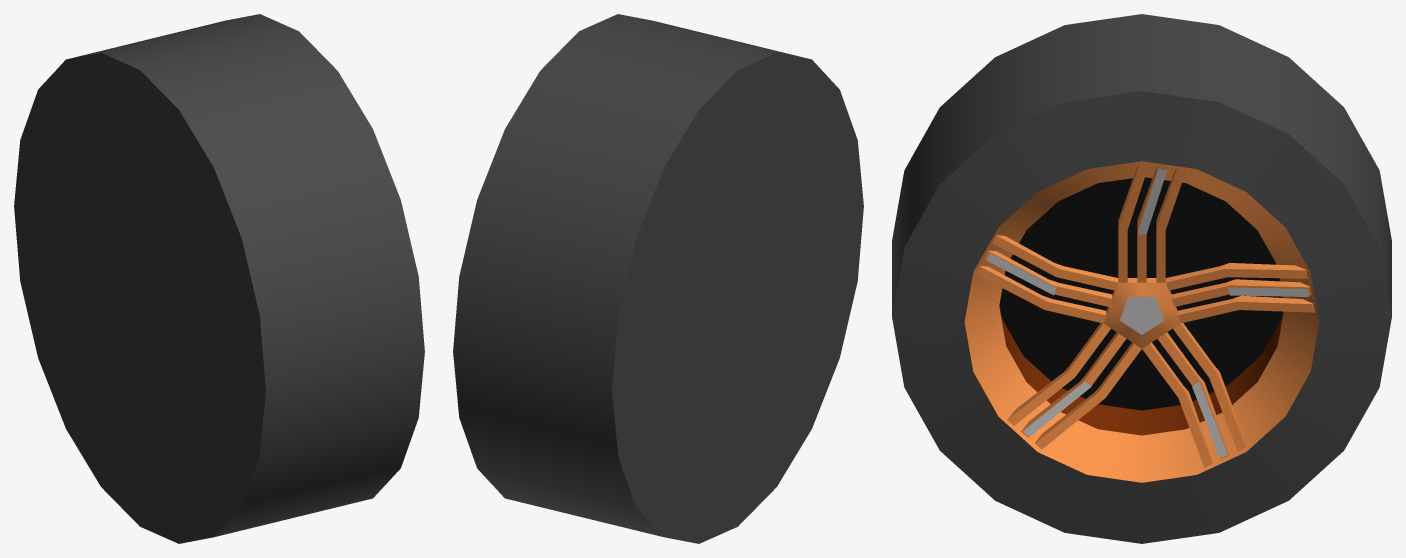
File: WheelMod_09.fbx
3 views of the same model, side by side, from view 1: azimuth 30°, elevation 25°; view 2: azimuth 150°, elevation 25°; view 3: azimuth 270°, elevation 25° (orthographic).
Visible parts, largest first — view 1: FrontLeftWheel; view 2: FrontLeftWheel; view 3: FrontLeftWheel.
Part boxes in pixels (bbox=[...]): FrontLeftWheel: bbox=[14, 14, 424, 543]; FrontLeftWheel: bbox=[453, 14, 863, 543]; FrontLeftWheel: bbox=[892, 14, 1391, 543].
Bounding box in the file's own units: 25.8 × 66.8 × 66.8.
